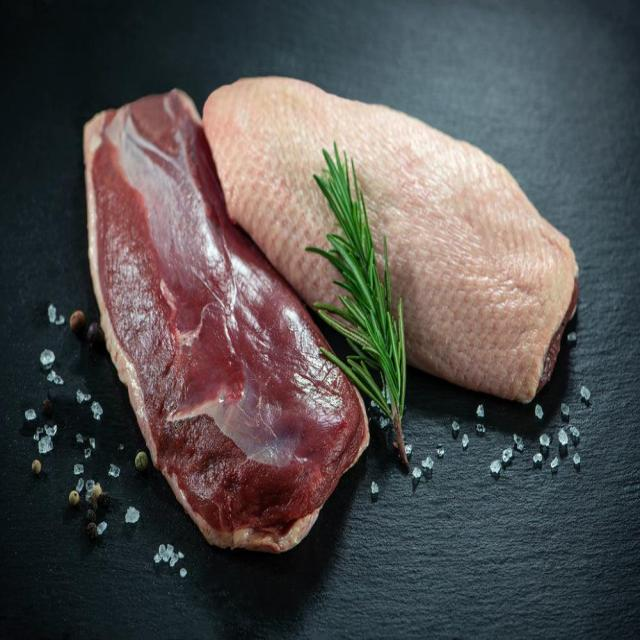duck: (84, 77, 578, 552)
